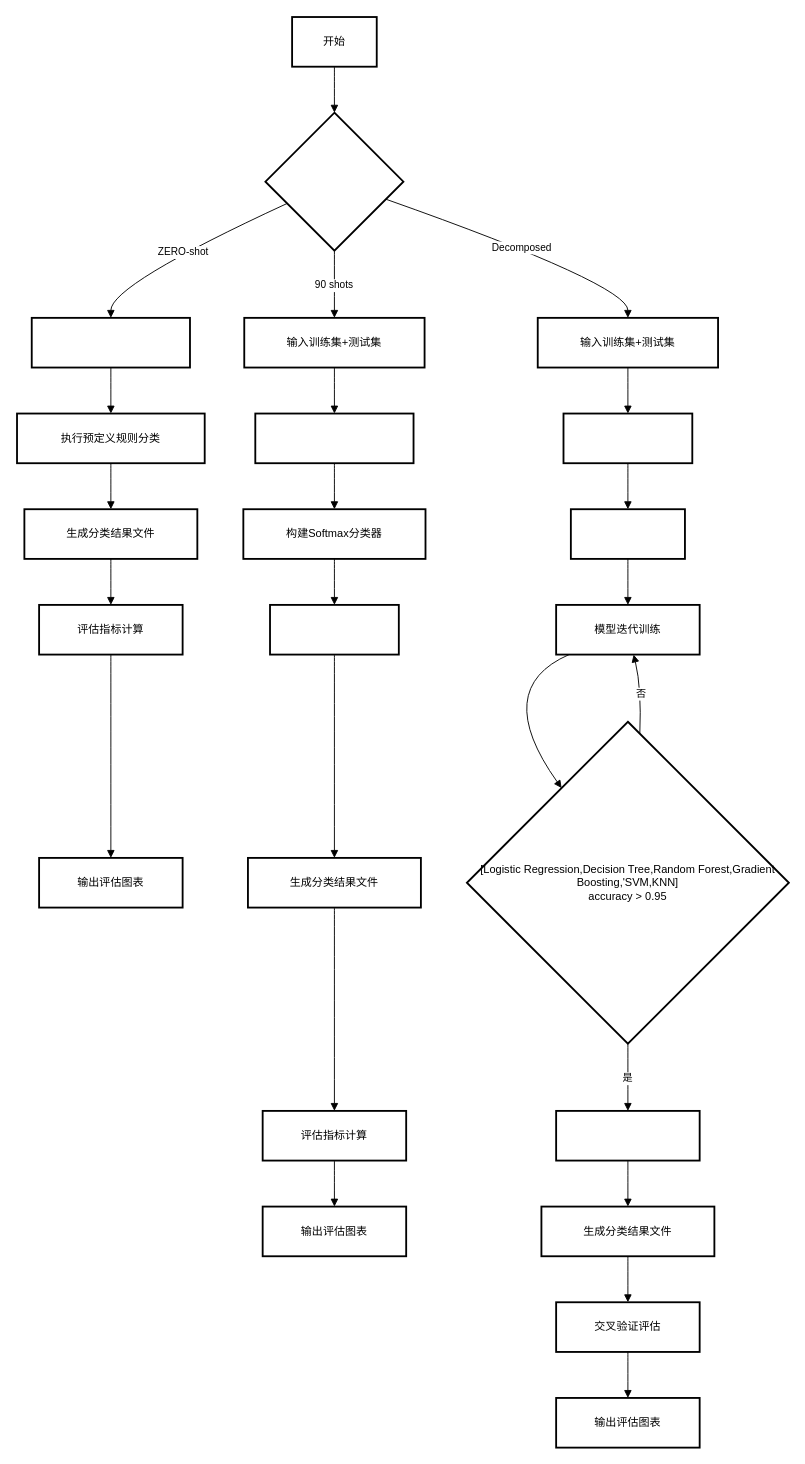
This 805x1464 diagram has some shape labels left out. The centre of each missing label's shape, as x and y in pixels:
分析训练集模式: point 334,438
提示策略选择: point 334,181
数据预处理: point 627,438
最终模型预测: point 627,1135
测试集预测: point 334,629
特征工程: point 627,533
输入测试集数据: point 110,342
